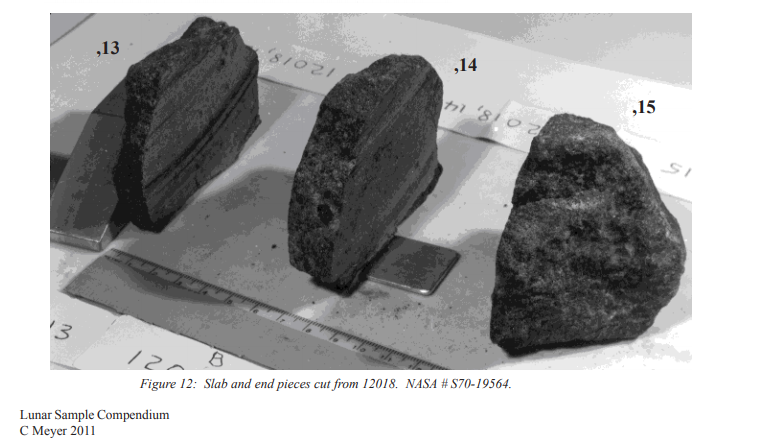Basalt: (493, 83, 686, 358), (104, 16, 268, 234), (326, 45, 470, 292)
